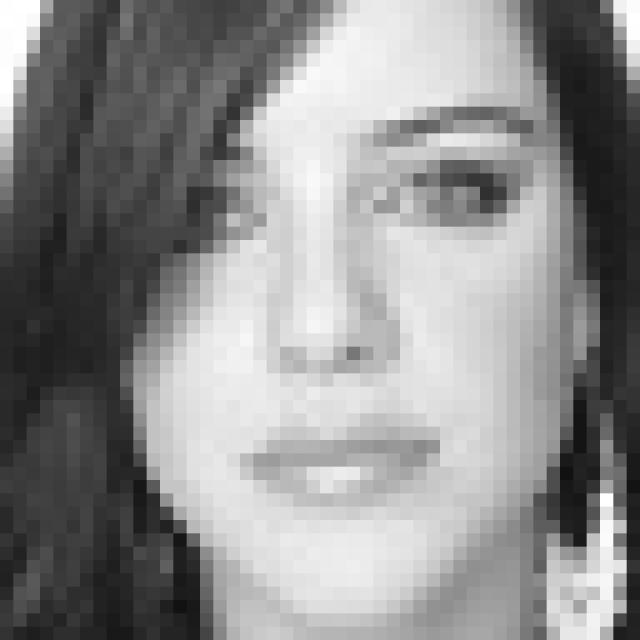neutral: (170, 99, 556, 526)
